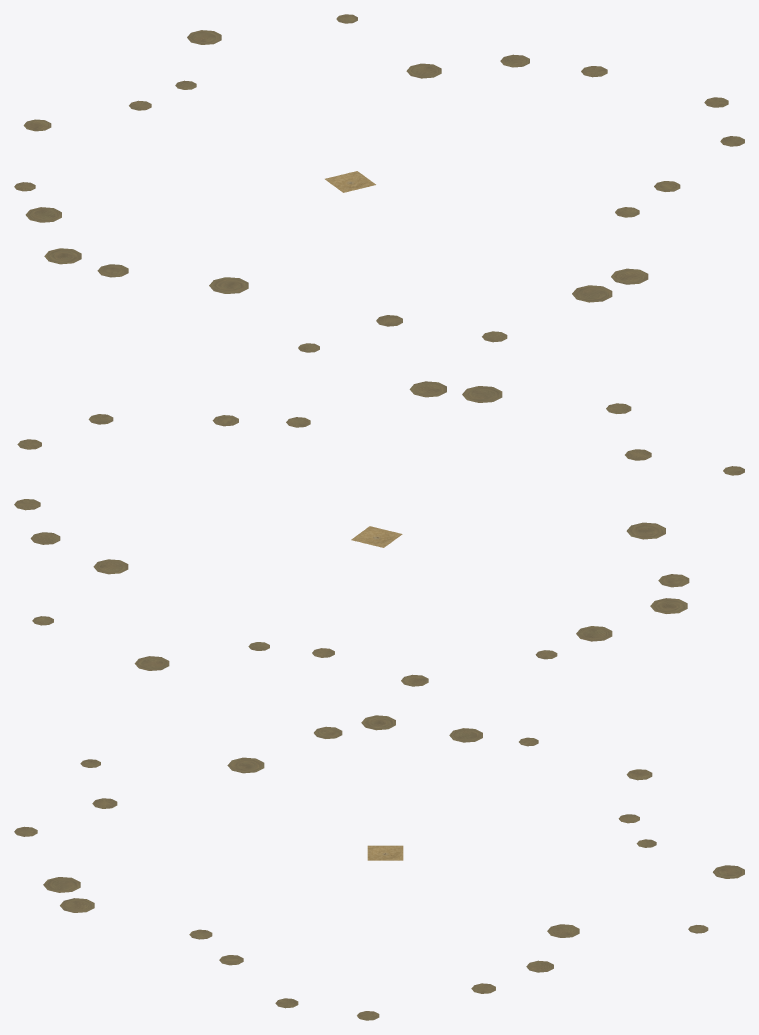
The model's file is ebu-simbel-kenti-baked.glb.
3 views of the same model, one above another, from view 1: azimuth 30°, elevation 25°; view 2: azimuth 150°, elevation 25°; view 3: azimuth 270°, elevation 25° (orthographic). The views are drawn at different scales.
Visible parts, largest first — view 1: ebu-simbel-kenti-ground, ebu-simbel-kenti-terrain; view 2: ebu-simbel-kenti-ground, ebu-simbel-kenti-terrain; view 3: ebu-simbel-kenti-ground, ebu-simbel-kenti-terrain.
Boxes of the visible parts, x1,y1,x2,y2 form: ebu-simbel-kenti-ground: (14,14,744,352); ebu-simbel-kenti-terrain: (325,171,375,192); ebu-simbel-kenti-ground: (14,381,744,686); ebu-simbel-kenti-terrain: (351,526,402,547); ebu-simbel-kenti-ground: (14,715,744,1020); ebu-simbel-kenti-terrain: (367,845,403,860).
Size of the model in its own units: 40415 by 67.22 by 40884.
Materials: 21 (17 with a texture image).
